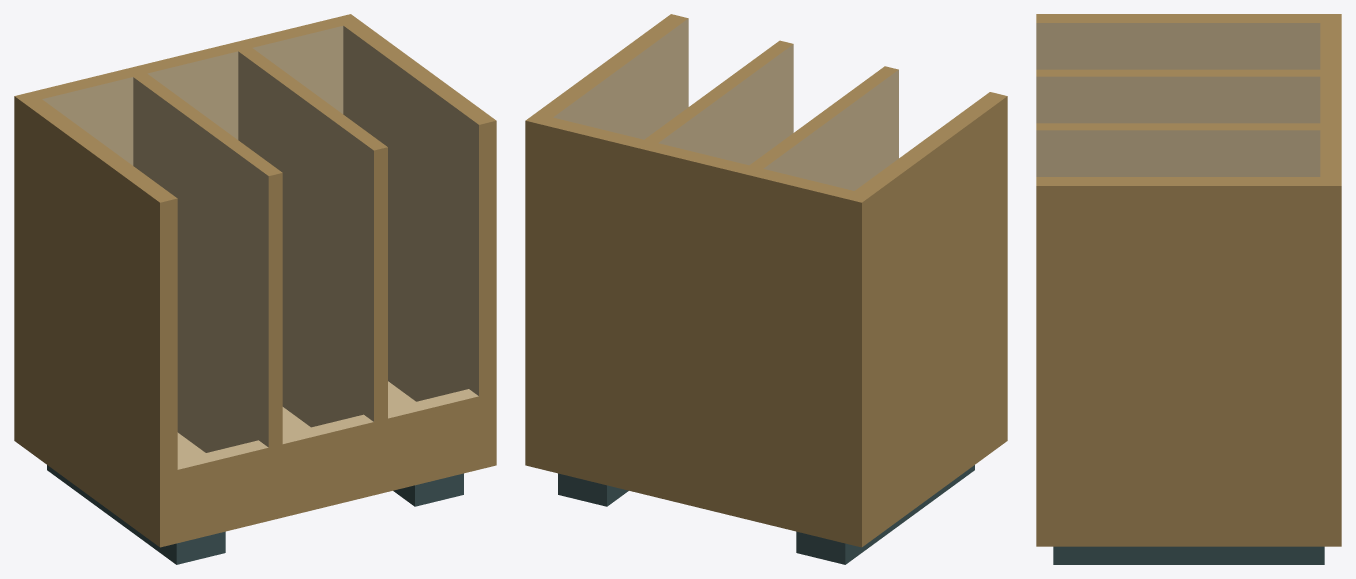
The picture shows the model from 3 angles, left to right: view 1: azimuth 30°, elevation 25°; view 2: azimuth 150°, elevation 25°; view 3: azimuth 270°, elevation 25°; orthographic projection. The views are drawn at different scales.
Visible parts, largest first — view 1: ContinuousThreeSlotCargoShell, LeftLongitudinalGroundSkid, RightLongitudinalGroundSkid; view 2: ContinuousThreeSlotCargoShell, LeftLongitudinalGroundSkid, RightLongitudinalGroundSkid; view 3: ContinuousThreeSlotCargoShell, RightLongitudinalGroundSkid.
Boxes of the visible parts, <box> form: ContinuousThreeSlotCargoShell: <box>14,14,496,547</box>; LeftLongitudinalGroundSkid: <box>47,465,225,564</box>; RightLongitudinalGroundSkid: <box>393,473,463,506</box>; ContinuousThreeSlotCargoShell: <box>525,14,1007,547</box>; LeftLongitudinalGroundSkid: <box>796,465,974,564</box>; RightLongitudinalGroundSkid: <box>558,473,628,506</box>; ContinuousThreeSlotCargoShell: <box>1036,14,1341,546</box>; RightLongitudinalGroundSkid: <box>1053,546,1324,564</box>.
Bounding box in the file's own units: 0.96 × 1.02 × 0.72.
